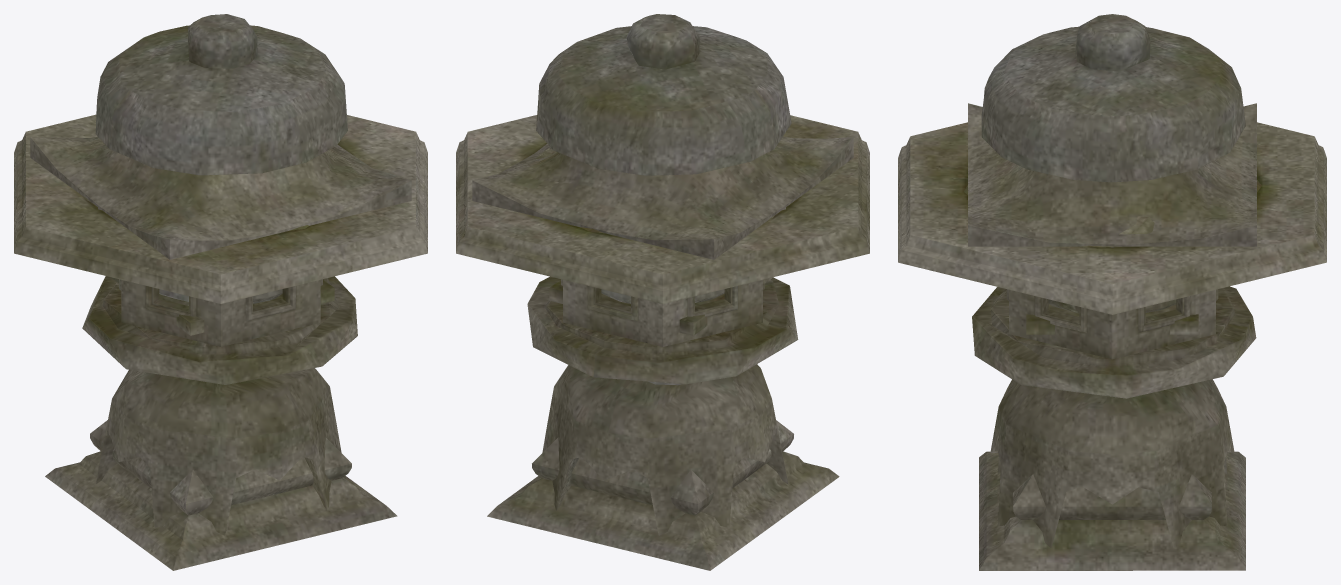
Rendered from den-da-nhe.glb.
The picture shows the model from 3 angles, left to right: view 1: azimuth 30°, elevation 25°; view 2: azimuth 150°, elevation 25°; view 3: azimuth 270°, elevation 25°; orthographic projection. The views are drawn at different scales.
Parts seen in each view (by area): view 1: den3, den4, den5; view 2: den3, den4, den5; view 3: den3, den4, den5.
Boxes of the visible parts, x1,y1,x2,y2 form: den3: [14, 114, 427, 535]; den4: [30, 136, 411, 570]; den5: [95, 14, 347, 303]; den3: [456, 115, 869, 535]; den4: [472, 136, 853, 570]; den5: [536, 14, 791, 385]; den3: [898, 122, 1326, 547]; den4: [968, 103, 1256, 570]; den5: [981, 14, 1245, 313].
Bounding box in the file's own units: 1.9 × 2.07 × 1.64.
Materials: 1 (1 with a texture image).
